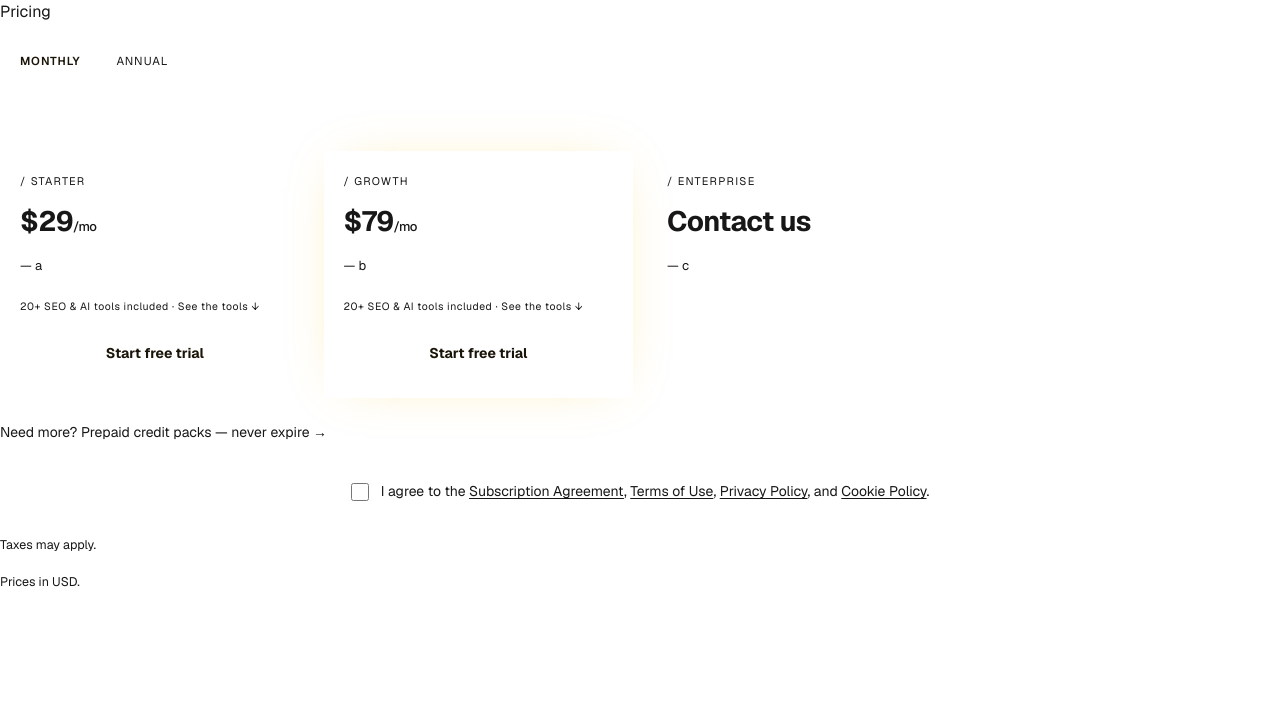
Scenario: the two checkboxes are one value › checks the page row when the dialog's is ticked
The image size is (1280, 720).
Step 1. Click the button "Start free trial" below "29" → {"x": 155, "y": 354}, box top-left (20, 331), bottom-right (290, 376)
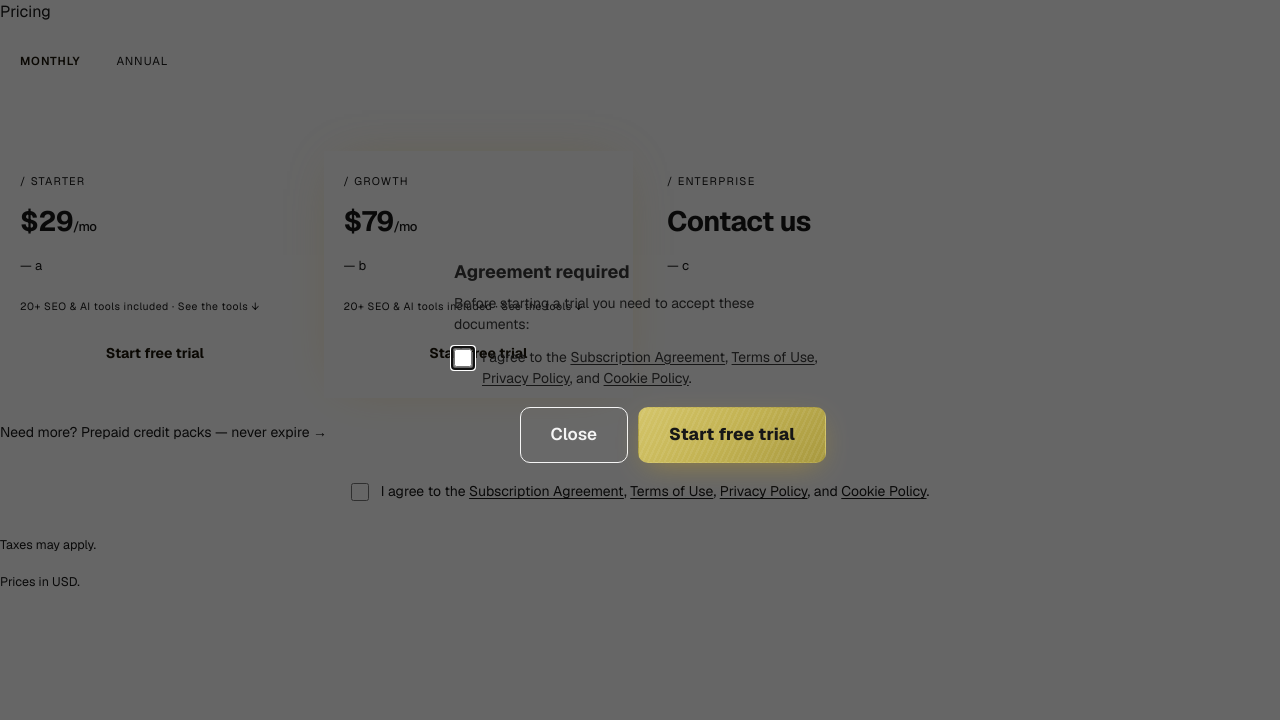
Step 2. Click the checkbox → {"x": 463, "y": 358}, box top-left (454, 348), bottom-right (472, 366)
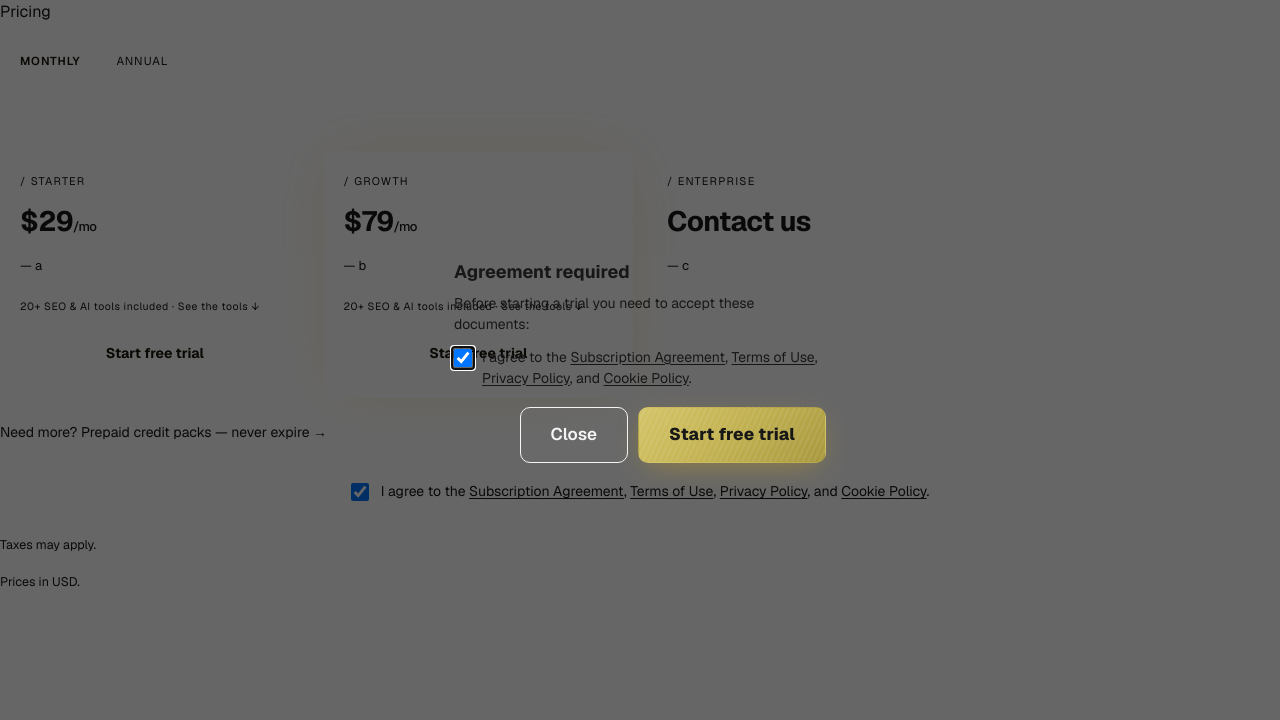
Check: the checkbox is checked, box top-left (454, 348), bottom-right (472, 366)
Check: the 2nd checkbox is checked, box top-left (351, 482), bottom-right (369, 500)
